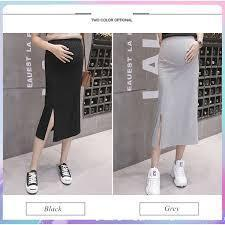skirt: (152, 35, 200, 153), (34, 39, 84, 142)
